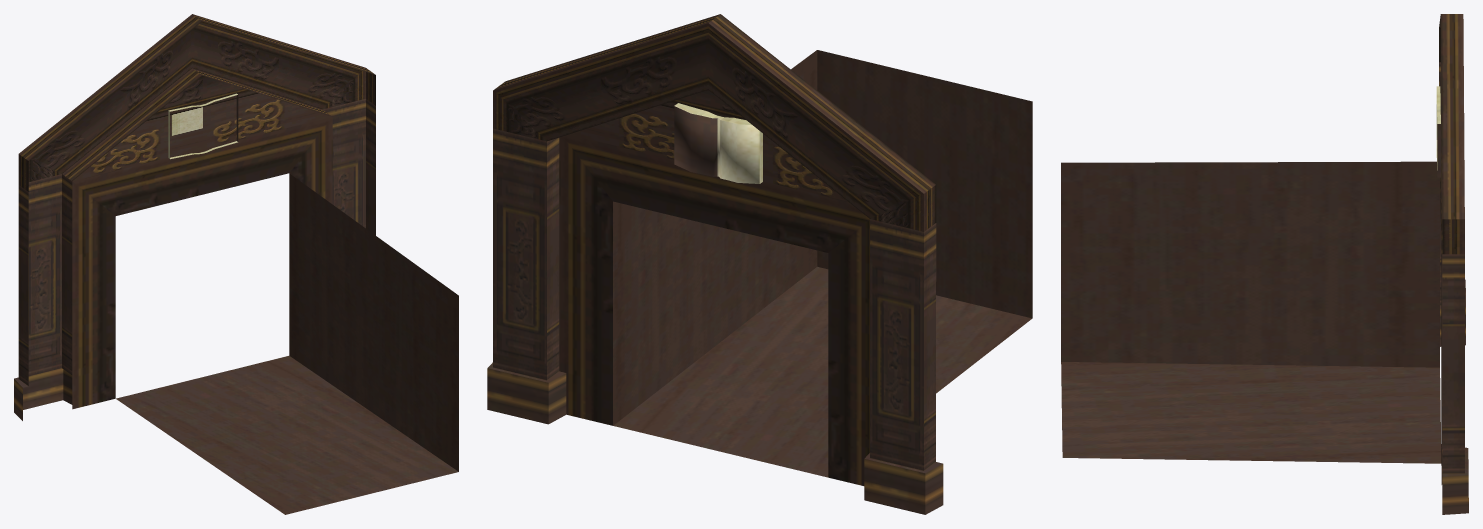
File: Library.fbx
3 views of the same model, side by side, from view 1: azimuth 30°, elevation 25°; view 2: azimuth 150°, elevation 25°; view 3: azimuth 270°, elevation 25° (orthographic). The views are drawn at different scales.
Parts seen in each view (by area): view 1: mesh-1.001; view 2: mesh-1.001; view 3: mesh-1.001.
Boxes of the visible parts, x1=… form: mesh-1.001: x1=14, y1=14, x2=458, y2=514; mesh-1.001: x1=487, y1=14, x2=1032, y2=514; mesh-1.001: x1=1061, y1=14, x2=1468, y2=514.
Size of the model in its own units: 479 by 452 by 416.
Materials: 3 (3 with a texture image).
